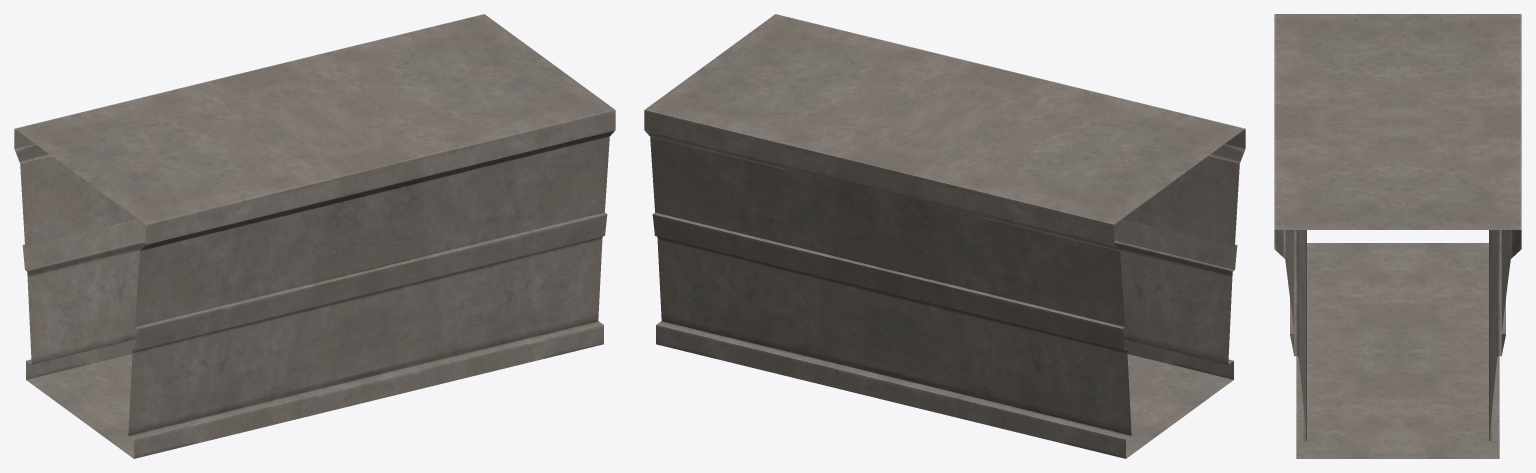
Rendered from sb_obj_outdoor009_AncientTemple_WallTopParts01B.fbx.
3 views of the same model, side by side, from view 1: azimuth 30°, elevation 25°; view 2: azimuth 150°, elevation 25°; view 3: azimuth 270°, elevation 25° (orthographic). The views are drawn at different scales.
Parts seen in each view (by area): view 1: sb_obj_outdoor009_AncientTemple_WallTopParts01B; view 2: sb_obj_outdoor009_AncientTemple_WallTopParts01B; view 3: sb_obj_outdoor009_AncientTemple_WallTopParts01B.
Part boxes in pixels (<box>): sb_obj_outdoor009_AncientTemple_WallTopParts01B: <box>14,14,615,458</box>; sb_obj_outdoor009_AncientTemple_WallTopParts01B: <box>644,14,1245,458</box>; sb_obj_outdoor009_AncientTemple_WallTopParts01B: <box>1274,14,1521,458</box>.
Size of the model in its own units: 4.02 by 1.98 by 1.94.
